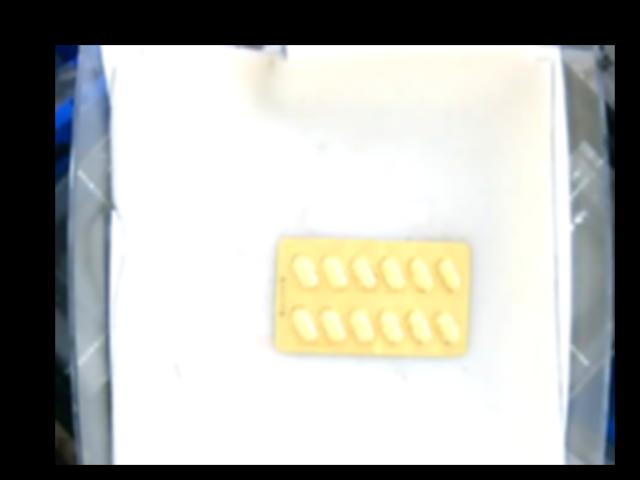Medicine: (274, 241, 472, 356)
